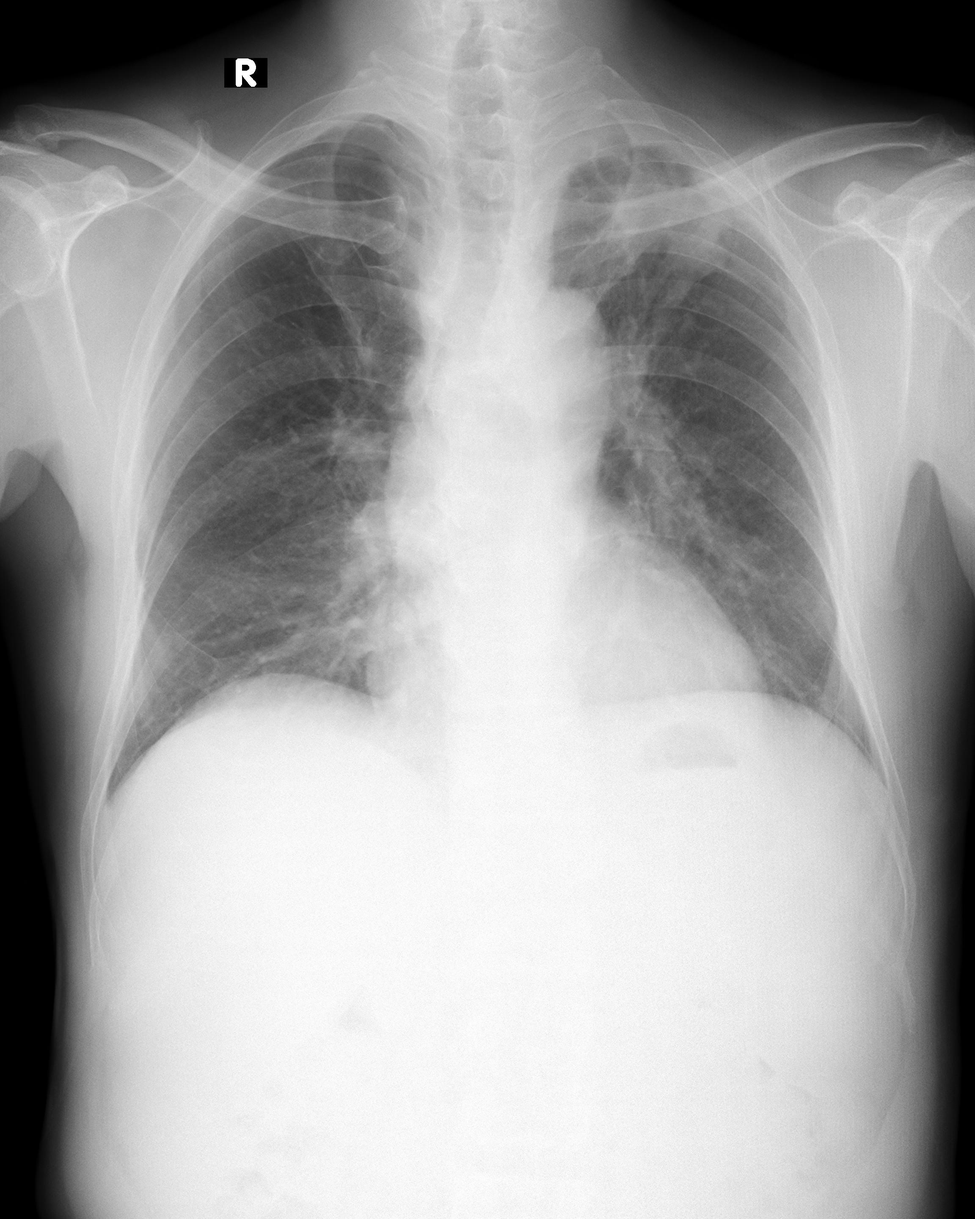Aortic enlargement: (478, 284, 613, 444)
Cardiomegaly: (362, 599, 783, 743)
Pleural thickening: (538, 116, 719, 177), (280, 114, 345, 155)
Pulmonary fibrosis: (589, 144, 749, 387)
